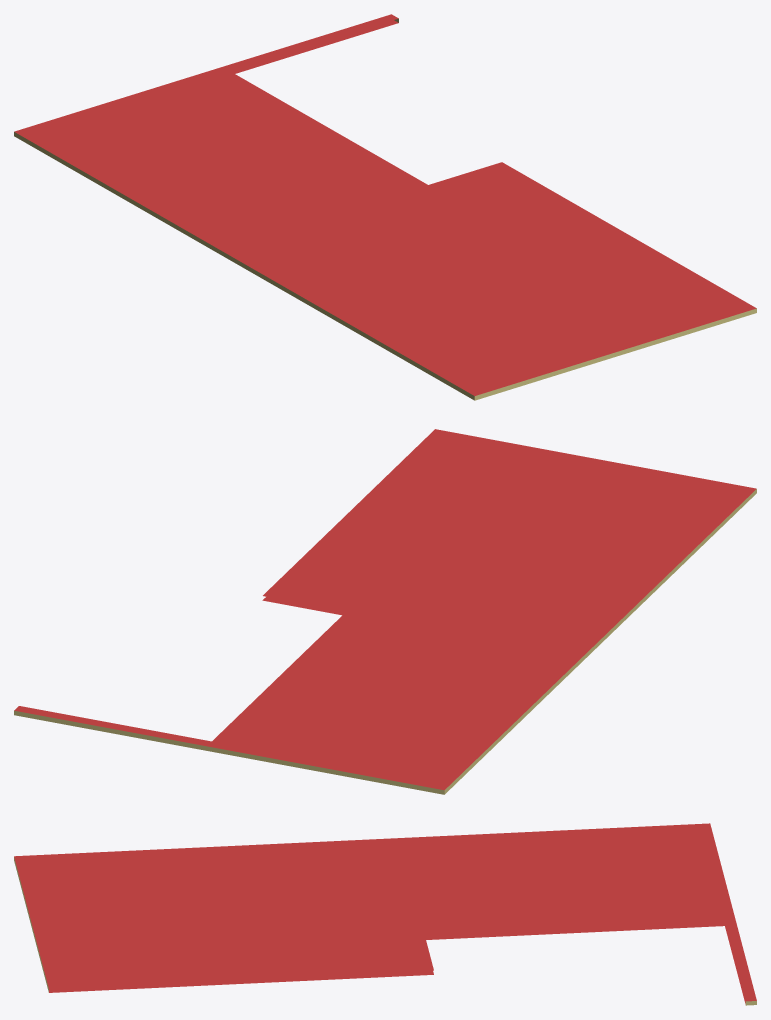
3 renders of one model, top to bottom at view 1: azimuth 30°, elevation 25°; view 2: azimuth 150°, elevation 25°; view 3: azimuth 270°, elevation 25°, orthographic. The views are drawn at different scales.
Bounding box in the file's own units: 9.32 × 16.43 × 0.1.
